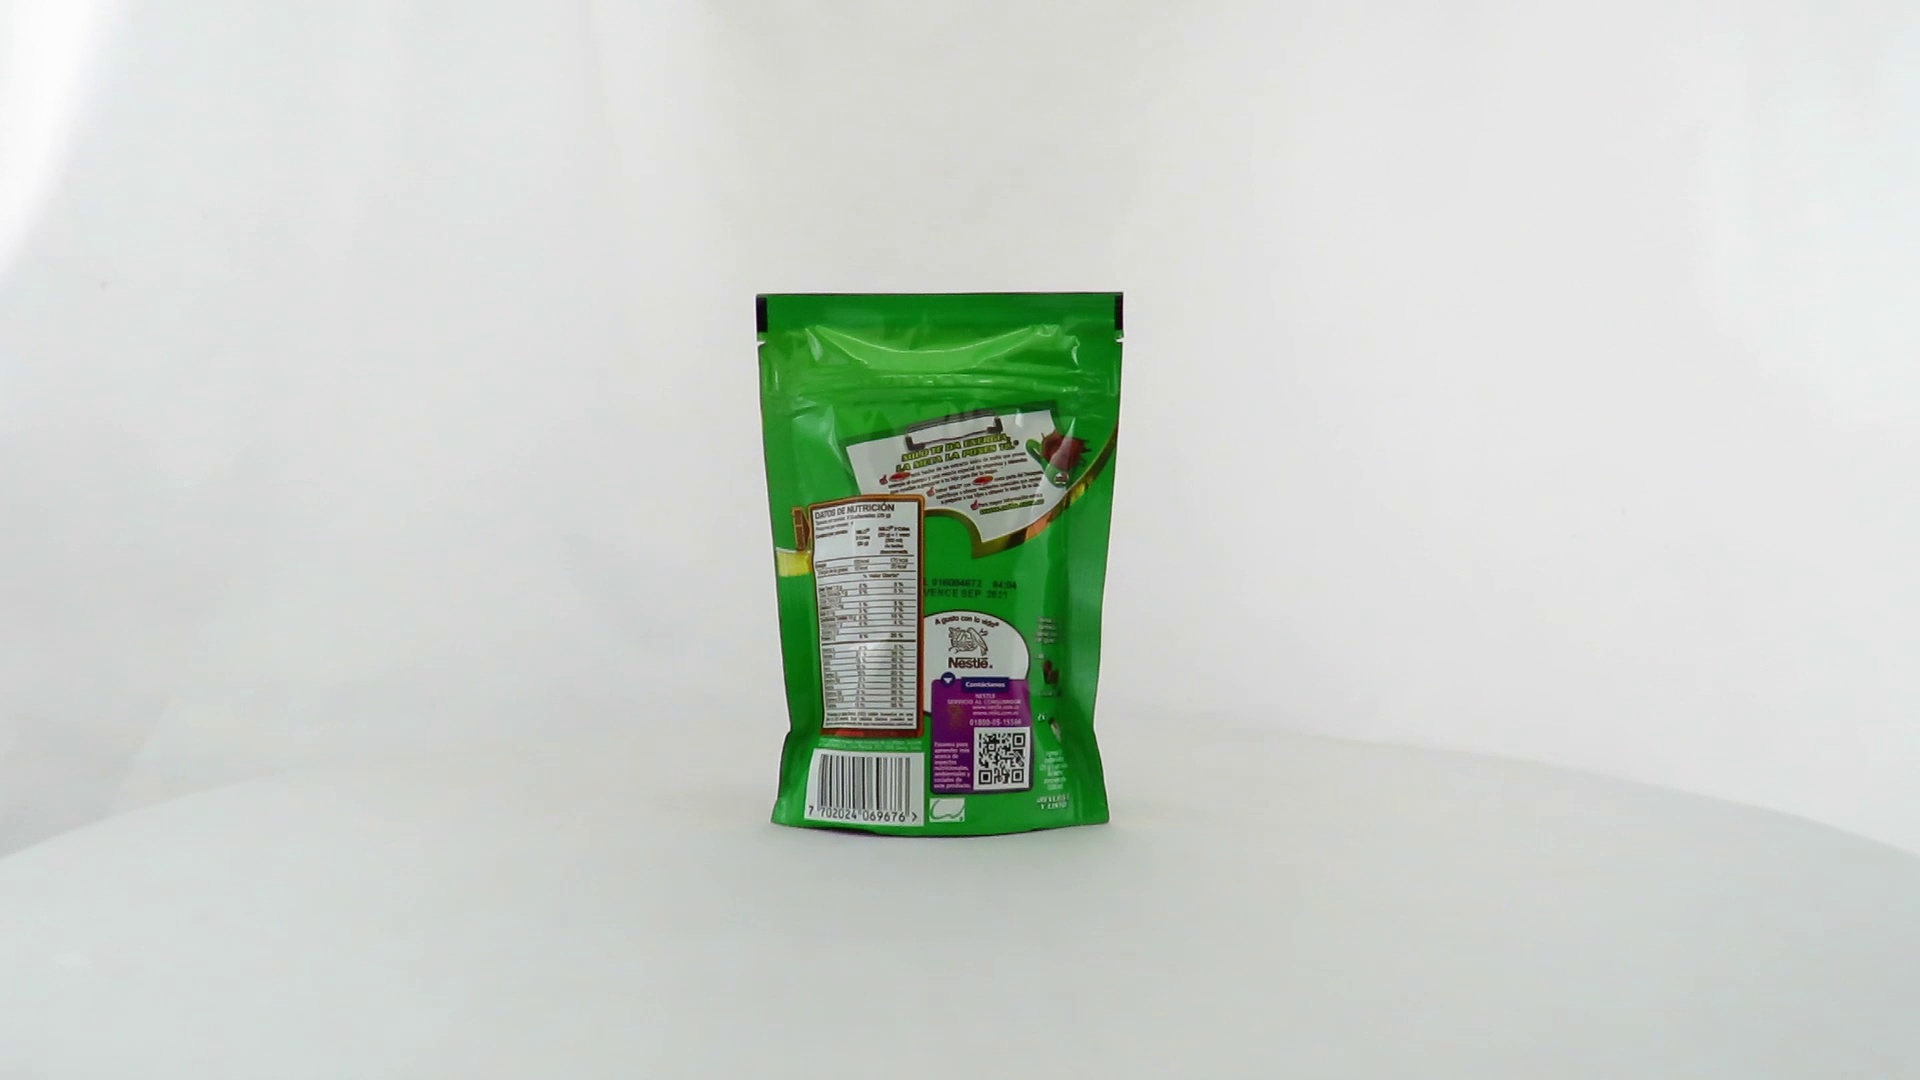COL0170203DYP10000: (750, 286, 1130, 845)
